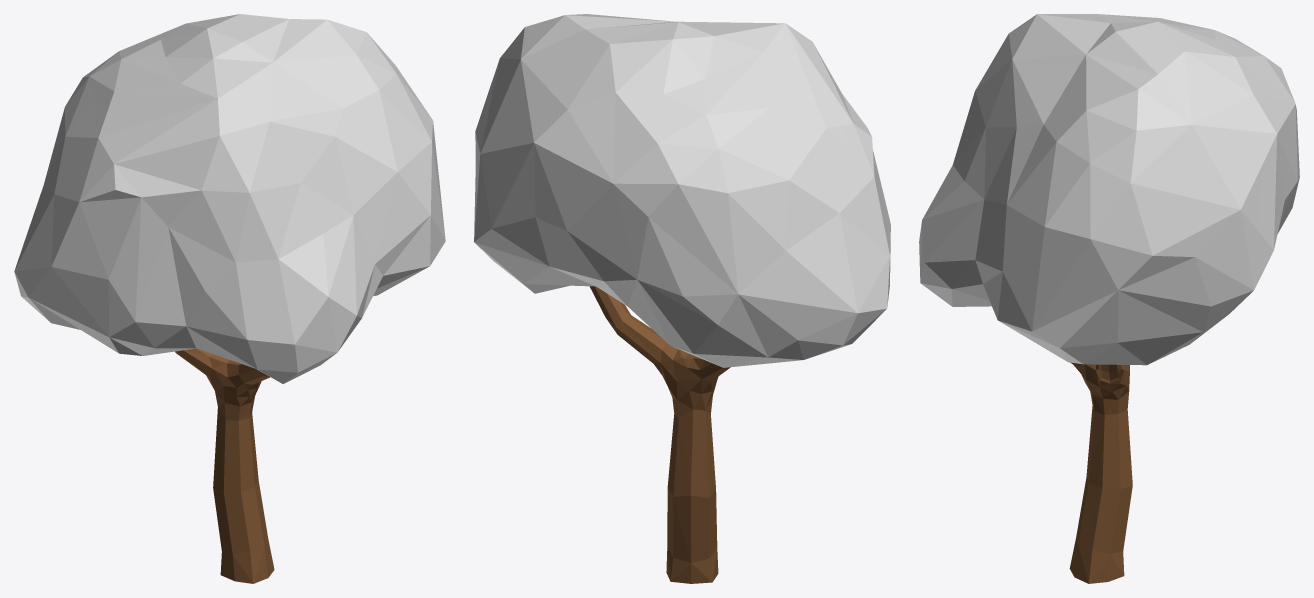
The model's file is Tree.fbx.
3 renders of one model, left to right at view 1: azimuth 30°, elevation 25°; view 2: azimuth 150°, elevation 25°; view 3: azimuth 270°, elevation 25°, orthographic. The views are drawn at different scales.
Parts seen in each view (by area): view 1: Tree_04; view 2: Tree_04; view 3: Tree_04.
Part boxes in pixels (x1,y1,x2,y2): Tree_04: (14, 14, 445, 583); Tree_04: (474, 14, 890, 583); Tree_04: (919, 14, 1299, 583).
Bounding box in the file's own units: 378 × 313 × 495.
